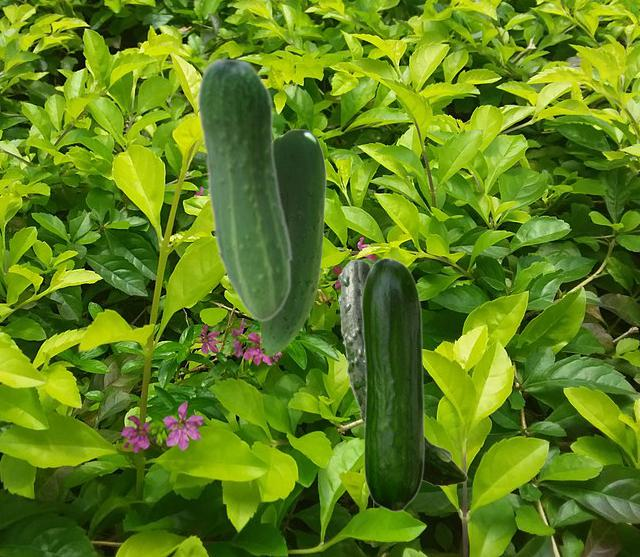cucumber: (337, 259, 466, 485), (196, 56, 292, 321), (361, 257, 424, 511), (260, 129, 325, 355)
